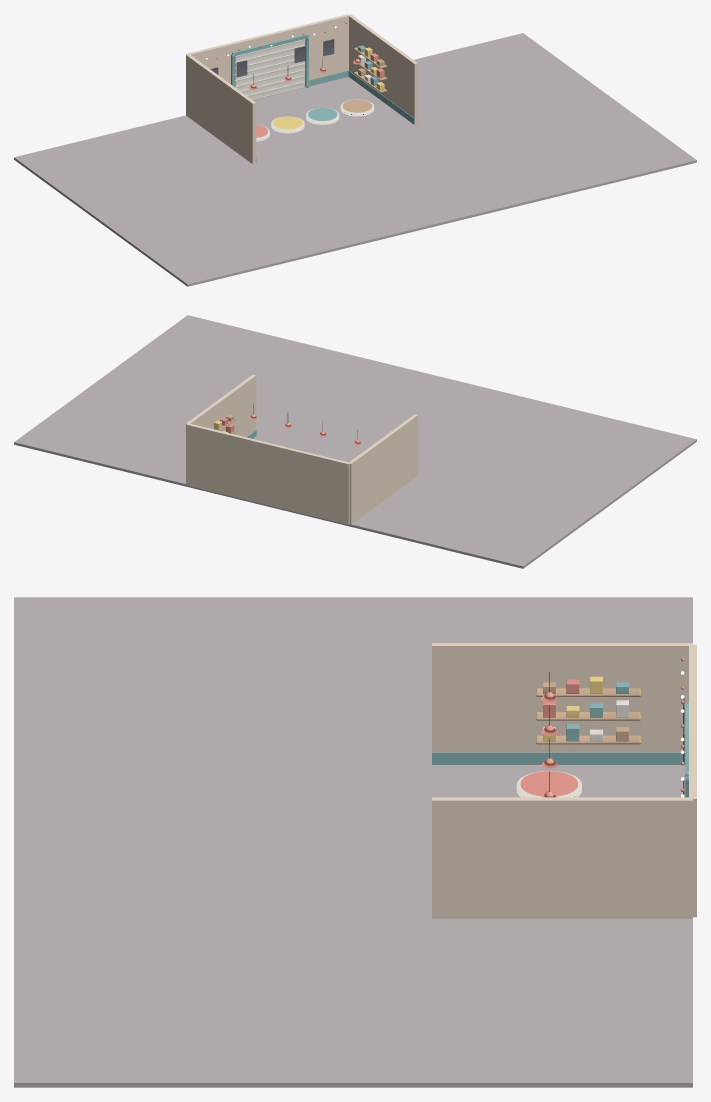
File: garage.glb
3 renders of one model, top to bottom at view 1: azimuth 30°, elevation 25°; view 2: azimuth 150°, elevation 25°; view 3: azimuth 270°, elevation 25°, orthographic. The views are drawn at different scales.
Parts seen in each view (by area): view 1: garage, garage_door, podium_3, podium_1, podium_2; view 2: garage; view 3: garage, podium_0.
Part boxes in pixels (box(x1,y1,x2,y2)): garage: box(14, 14, 696, 286); garage_door: box(235, 39, 304, 99); podium_3: box(340, 99, 374, 116); podium_1: box(271, 116, 304, 133); podium_2: box(306, 108, 339, 124); garage: box(14, 315, 696, 568); garage: box(14, 597, 696, 1087); podium_0: box(516, 771, 581, 797).
Size of the model in its own units: 44 by 5.2 by 26.15.
